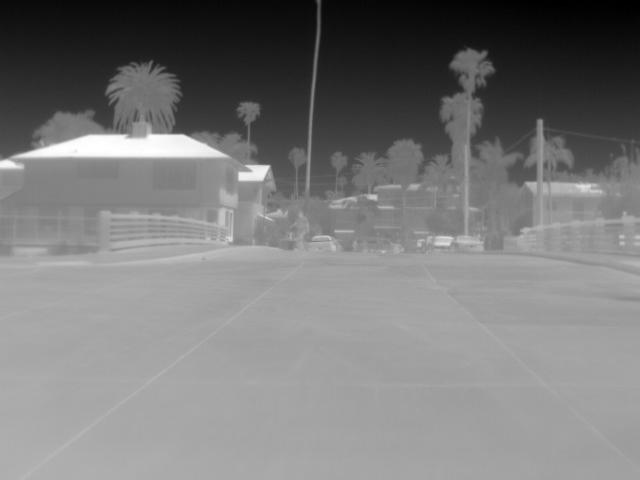car: (353, 236, 400, 254), (304, 231, 342, 251), (452, 235, 485, 255), (408, 231, 435, 252), (428, 235, 455, 254)
person: (290, 210, 311, 253)
